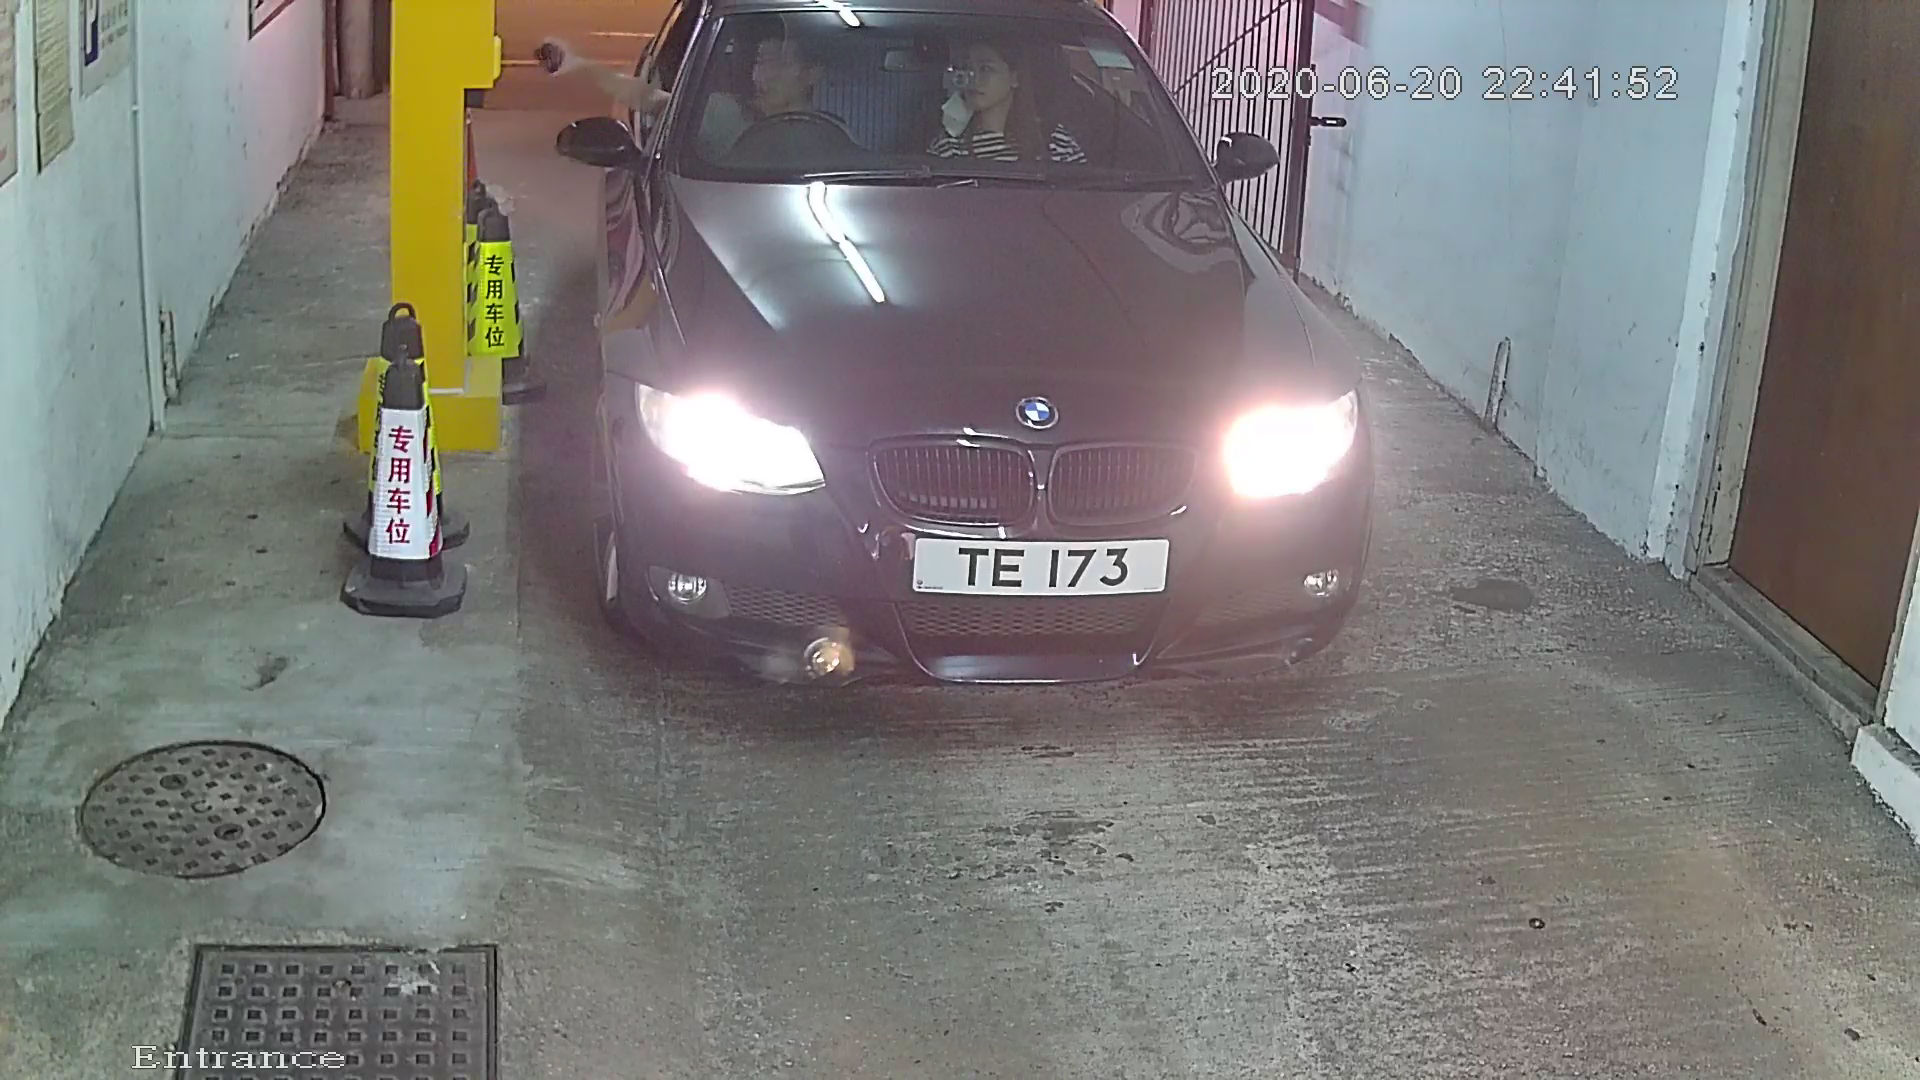privatecar: (560, 3, 1456, 790)
